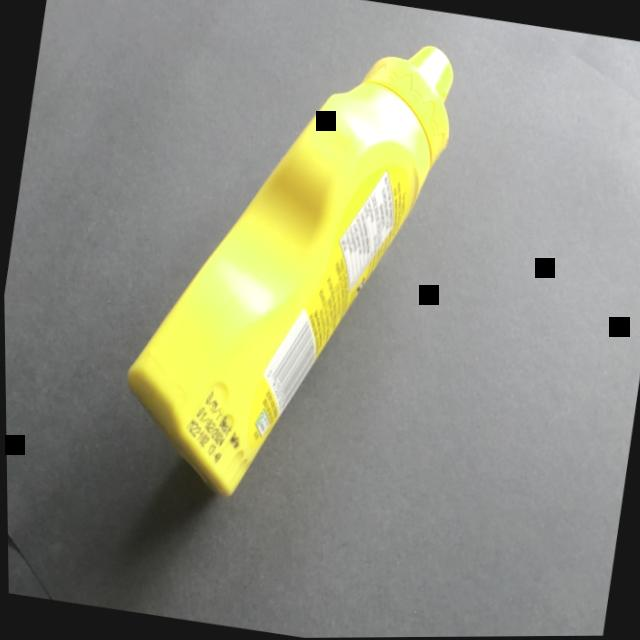Mustard: (84, 0, 495, 549)
